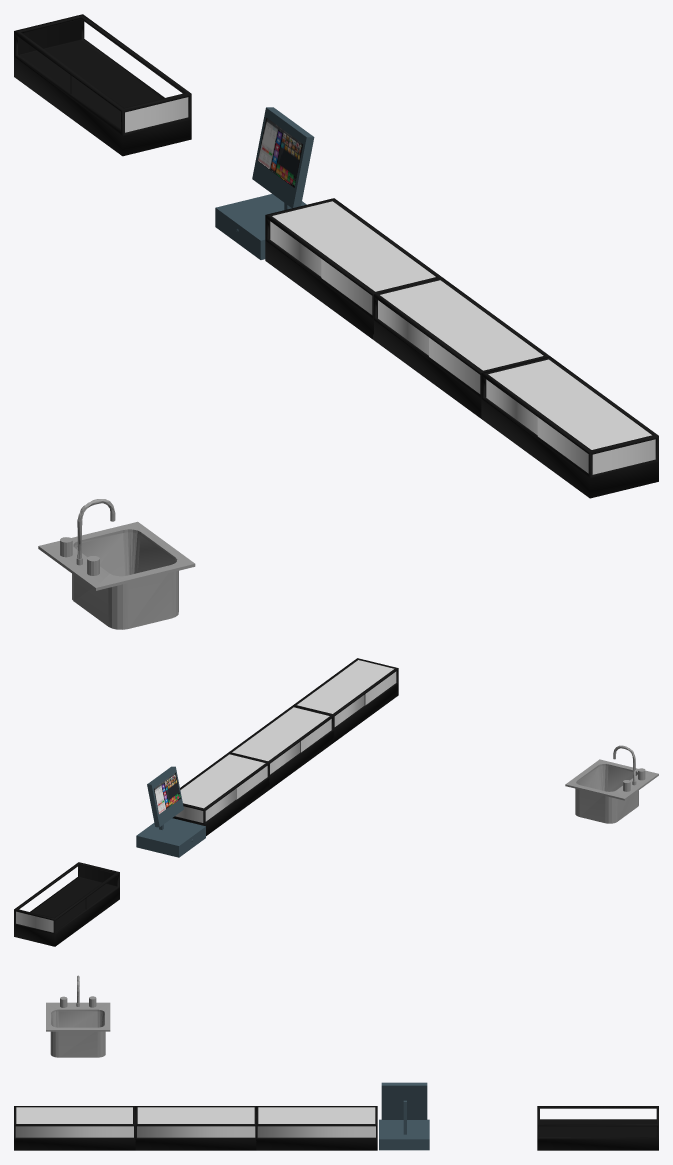
Rendered from AdicCafe.fbx.
3 views of the same model, one above another, from view 1: azimuth 30°, elevation 25°; view 2: azimuth 150°, elevation 25°; view 3: azimuth 270°, elevation 25° (orthographic). The views are drawn at different scales.
Visible parts, largest first — view 1: Mostrador3.003, Fregadero, Caja registradora; view 2: Mostrador3.003, Fregadero, Caja registradora; view 3: Mostrador3.003, Fregadero, Caja registradora.
Boxes of the visible parts, bbox=[...] form: Mostrador3.003: bbox=[14, 14, 658, 498]; Fregadero: bbox=[38, 499, 195, 629]; Caja registradora: bbox=[215, 107, 314, 259]; Mostrador3.003: bbox=[14, 658, 398, 946]; Fregadero: bbox=[565, 745, 658, 823]; Caja registradora: bbox=[136, 766, 205, 857]; Mostrador3.003: bbox=[14, 1106, 658, 1150]; Fregadero: bbox=[46, 975, 110, 1057]; Caja registradora: bbox=[379, 1082, 429, 1150].
Bounding box in the file's own units: 426 × 122 × 796.
9 materials, 9 textured.
